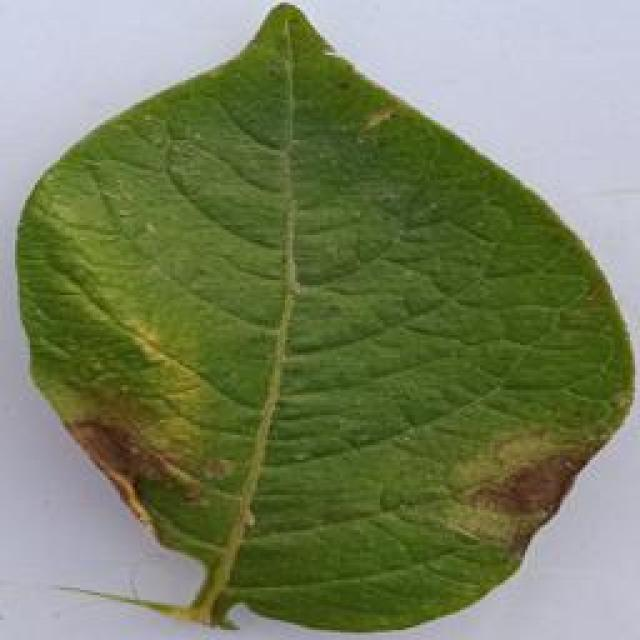Potato_Late_Blight: (13, 3, 631, 622)
